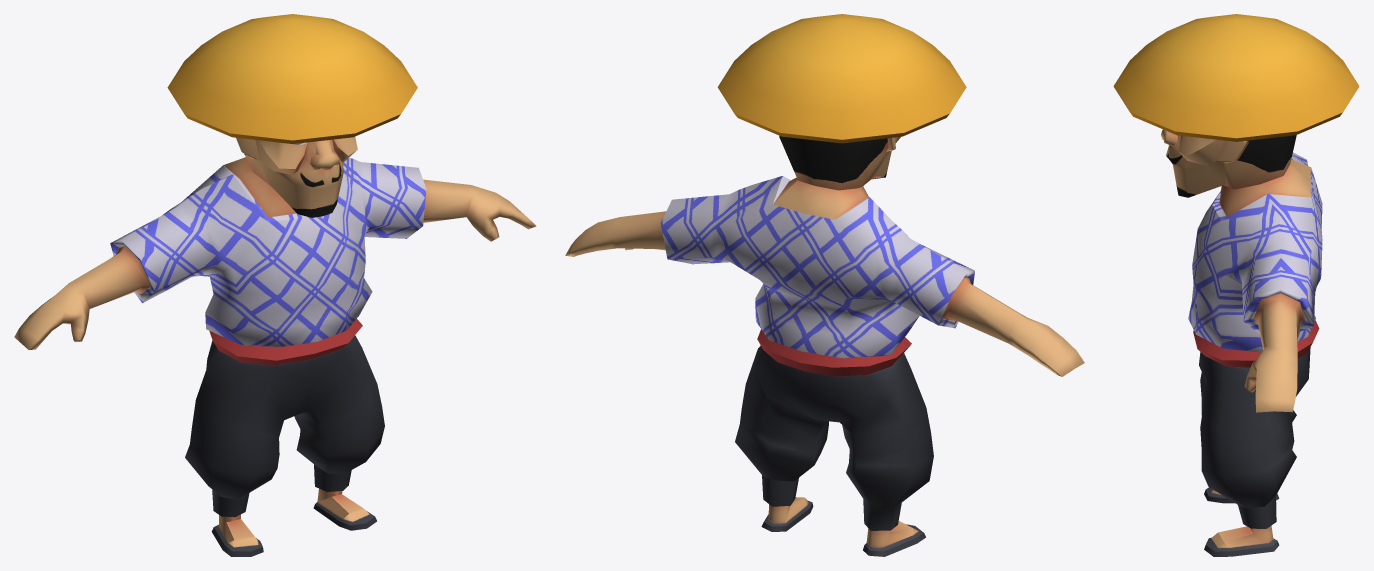
File: Teacher.fbx
3 renders of one model, left to right at view 1: azimuth 30°, elevation 25°; view 2: azimuth 150°, elevation 25°; view 3: azimuth 270°, elevation 25°, orthographic.
Parts seen in each view (by area): view 1: Teacher; view 2: Teacher; view 3: Teacher.
Boxes of the visible parts, x1,y1,x2,y2 form: Teacher: (14, 14, 536, 556); Teacher: (565, 14, 1084, 556); Teacher: (1113, 14, 1359, 556).
Size of the model in its own units: 320 by 308 by 137.
Materials: 1 (1 with a texture image).
